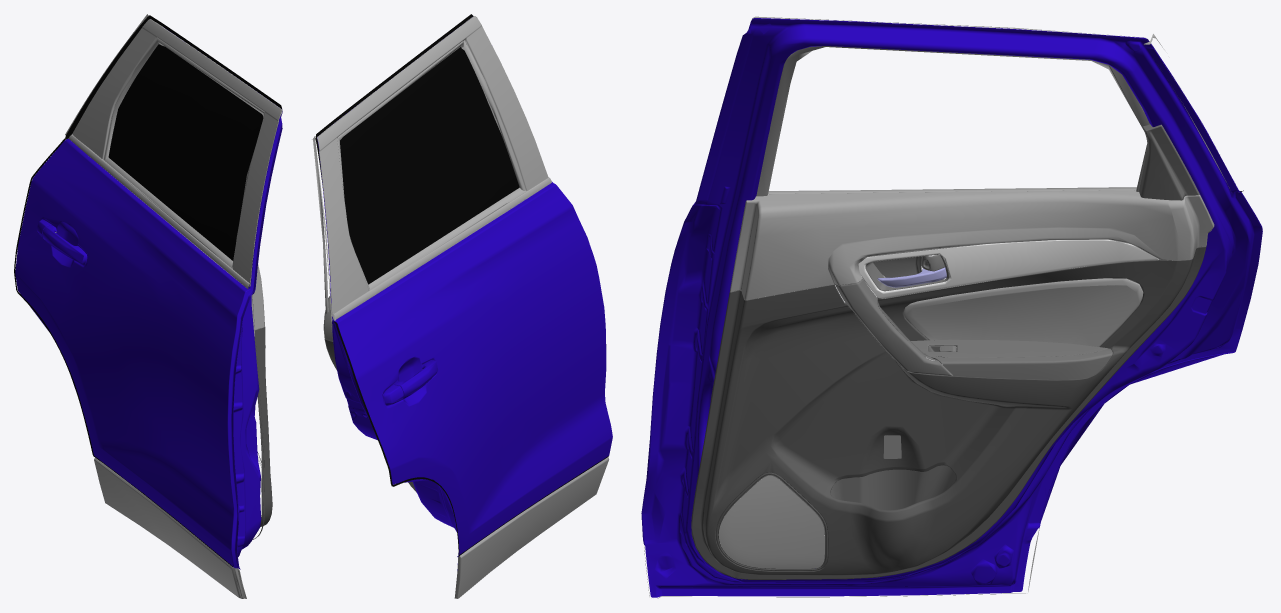
File: TOYOTA_URBAN_CRUISER_PRE_EX_RR_DOORS_MESH.glb
3 views of the same model, side by side, from view 1: azimuth 30°, elevation 25°; view 2: azimuth 150°, elevation 25°; view 3: azimuth 270°, elevation 25° (orthographic). The views are drawn at different scales.
Parts seen in each view (by area): view 1: TOYOTA_URBAN_CRUISER_PRE_EX_RR_DOORS_MESH; view 2: TOYOTA_URBAN_CRUISER_PRE_EX_RR_DOORS_MESH; view 3: TOYOTA_URBAN_CRUISER_PRE_EX_RR_DOORS_MESH.
Boxes of the visible parts, x1,y1,x2,y2 form: TOYOTA_URBAN_CRUISER_PRE_EX_RR_DOORS_MESH: (14,14,282,598); TOYOTA_URBAN_CRUISER_PRE_EX_RR_DOORS_MESH: (312,14,612,598); TOYOTA_URBAN_CRUISER_PRE_EX_RR_DOORS_MESH: (641,16,1262,598).
Bounding box in the file's own units: 0.2925 × 1.17 × 1.04.
